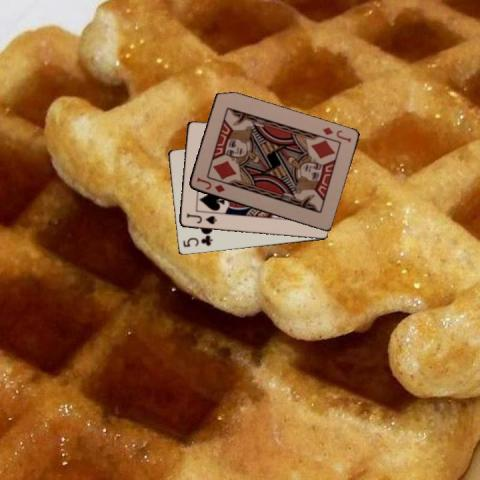5c: (180, 234, 213, 249)
Jd: (193, 174, 226, 194), (319, 125, 353, 144)
Js: (183, 210, 218, 225)
